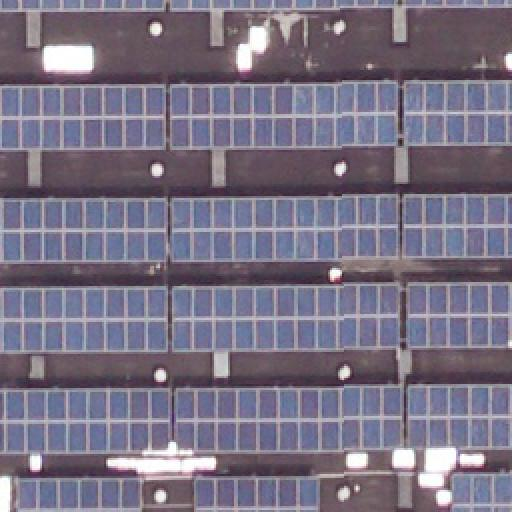solar-panel: (170, 84, 398, 152), (175, 284, 401, 352), (172, 196, 400, 260), (175, 386, 401, 450), (0, 286, 168, 354), (0, 387, 172, 453), (1, 86, 167, 150), (0, 202, 168, 262), (400, 82, 512, 146), (408, 282, 512, 350), (401, 197, 511, 259), (408, 384, 512, 448), (16, 480, 144, 512), (195, 480, 317, 512), (449, 473, 511, 511), (1, 0, 167, 12), (171, 0, 397, 8), (401, 1, 511, 7)
